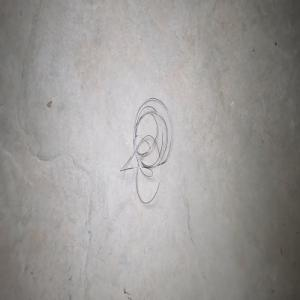Wire: (119, 97, 171, 203)
